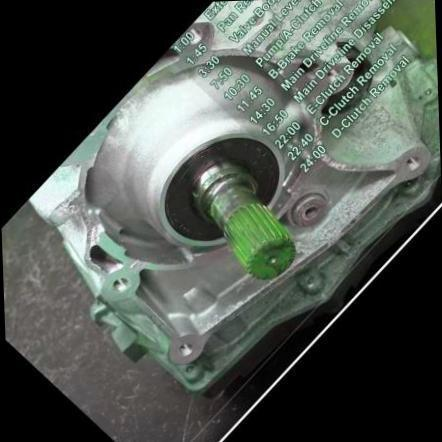hole: (104, 270, 132, 298), (400, 151, 426, 175), (175, 337, 197, 360)
